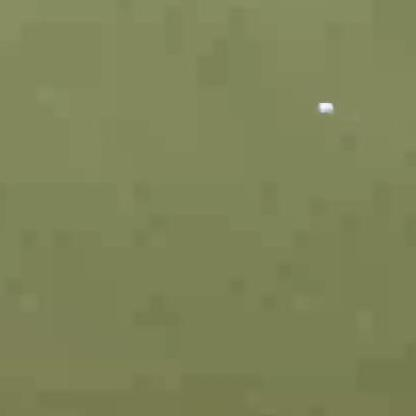golfball: (317, 99, 334, 114)
